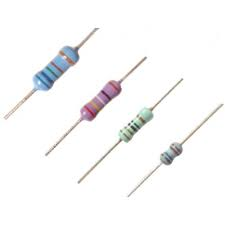resistor: (26, 40, 81, 97), (72, 76, 122, 127), (114, 104, 162, 146), (155, 138, 188, 171)
